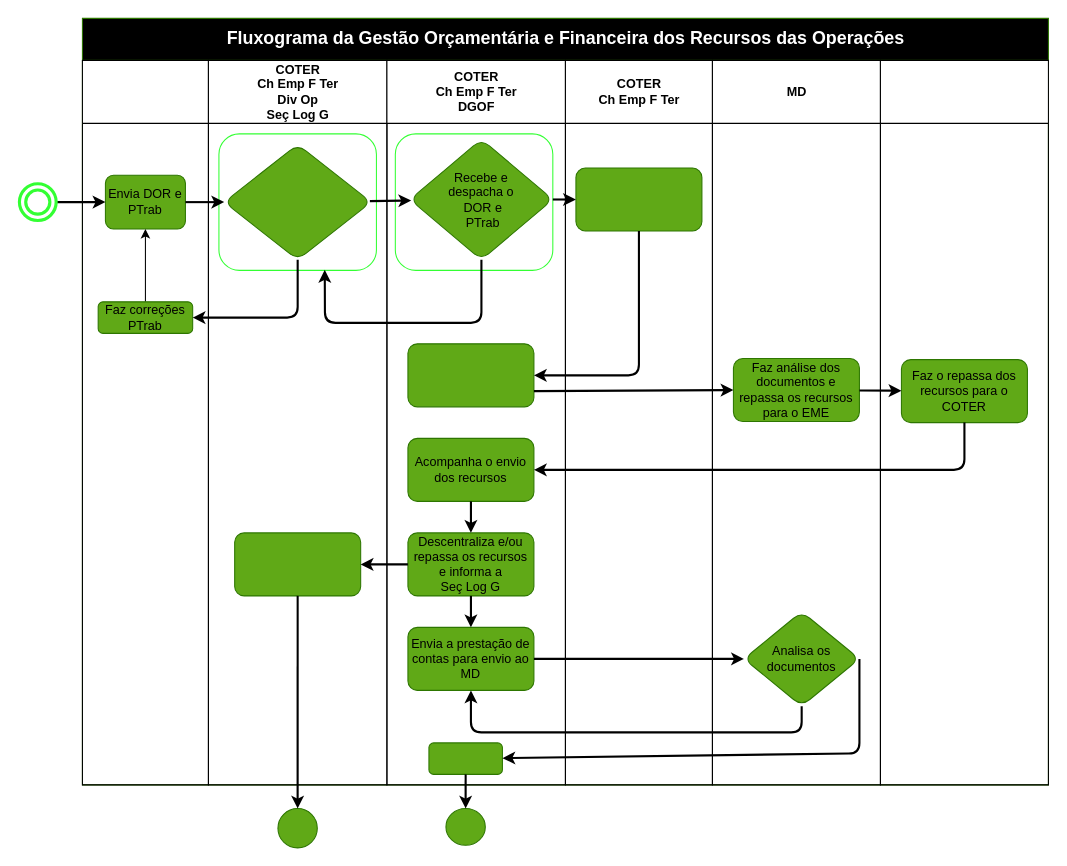
Some shapes in this 1067 by 866 pixel diagram are drawn without their labels. The box of each missing label's shape, as (x1, y1, x2, y2) in pixels:
Arquivar: (428, 742, 502, 774)
Assina a Msg Op para envio ao MD: (575, 167, 702, 231)
C Mil A: (81, 59, 208, 785)
EME: (879, 59, 1048, 785)
Envia documentos para o MD: (407, 343, 534, 407)
Informa as OME/ODS responsáveis: (234, 532, 361, 596)
Recebe, analisa, e envia o DOR e PTrab: (223, 143, 371, 260)
